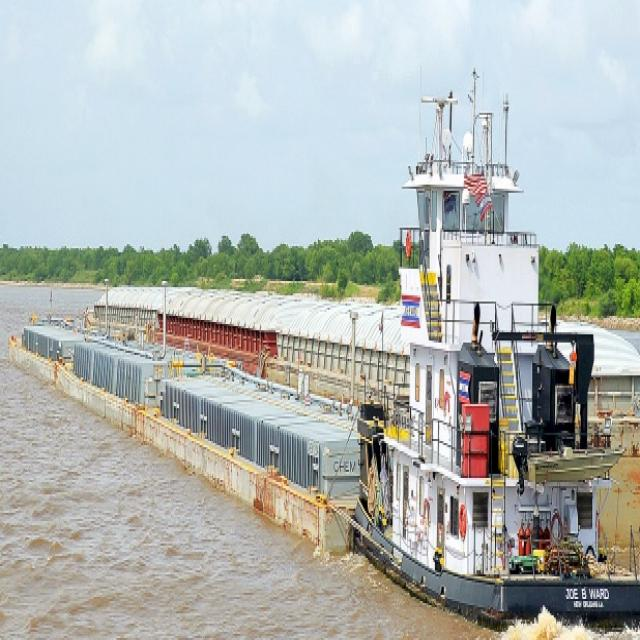tugboat: (348, 62, 640, 640)
